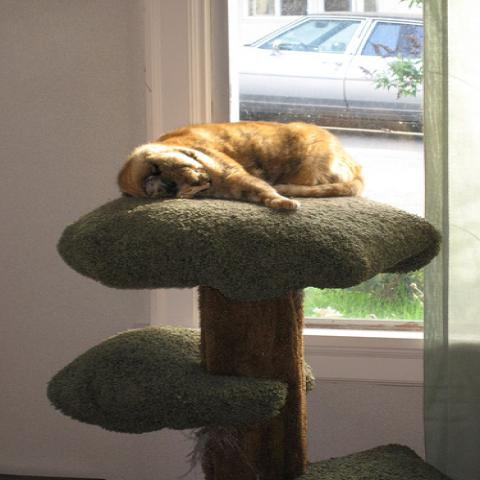car: (238, 11, 421, 131)
